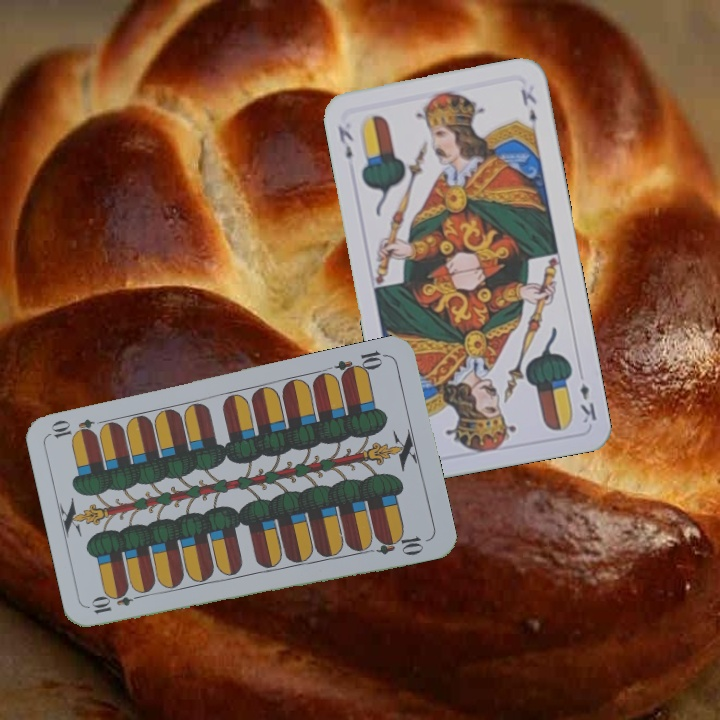E10: (332, 346, 390, 381), (88, 588, 147, 617)
EK: (576, 379, 599, 426), (333, 122, 356, 162)
